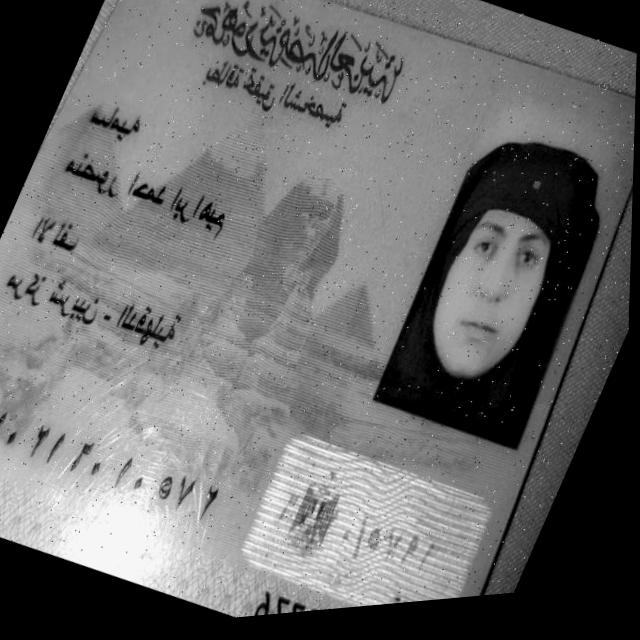front: (0, 0, 635, 617)
